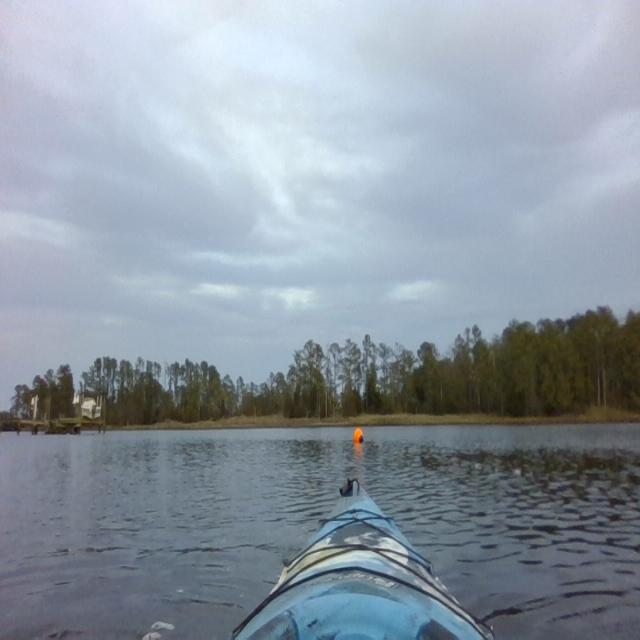Buoy: (354, 426, 364, 446)
